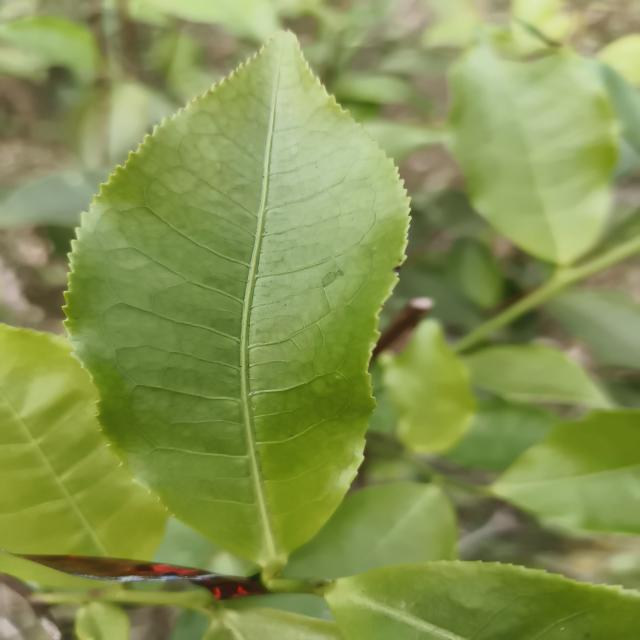Leaf: (66, 33, 409, 572), (0, 325, 167, 560), (449, 41, 618, 265), (325, 561, 640, 640), (492, 409, 640, 534), (284, 482, 457, 579), (380, 320, 476, 453), (463, 345, 612, 408), (443, 398, 562, 471), (548, 290, 640, 369), (0, 17, 98, 83), (0, 170, 108, 229), (449, 239, 504, 308)
